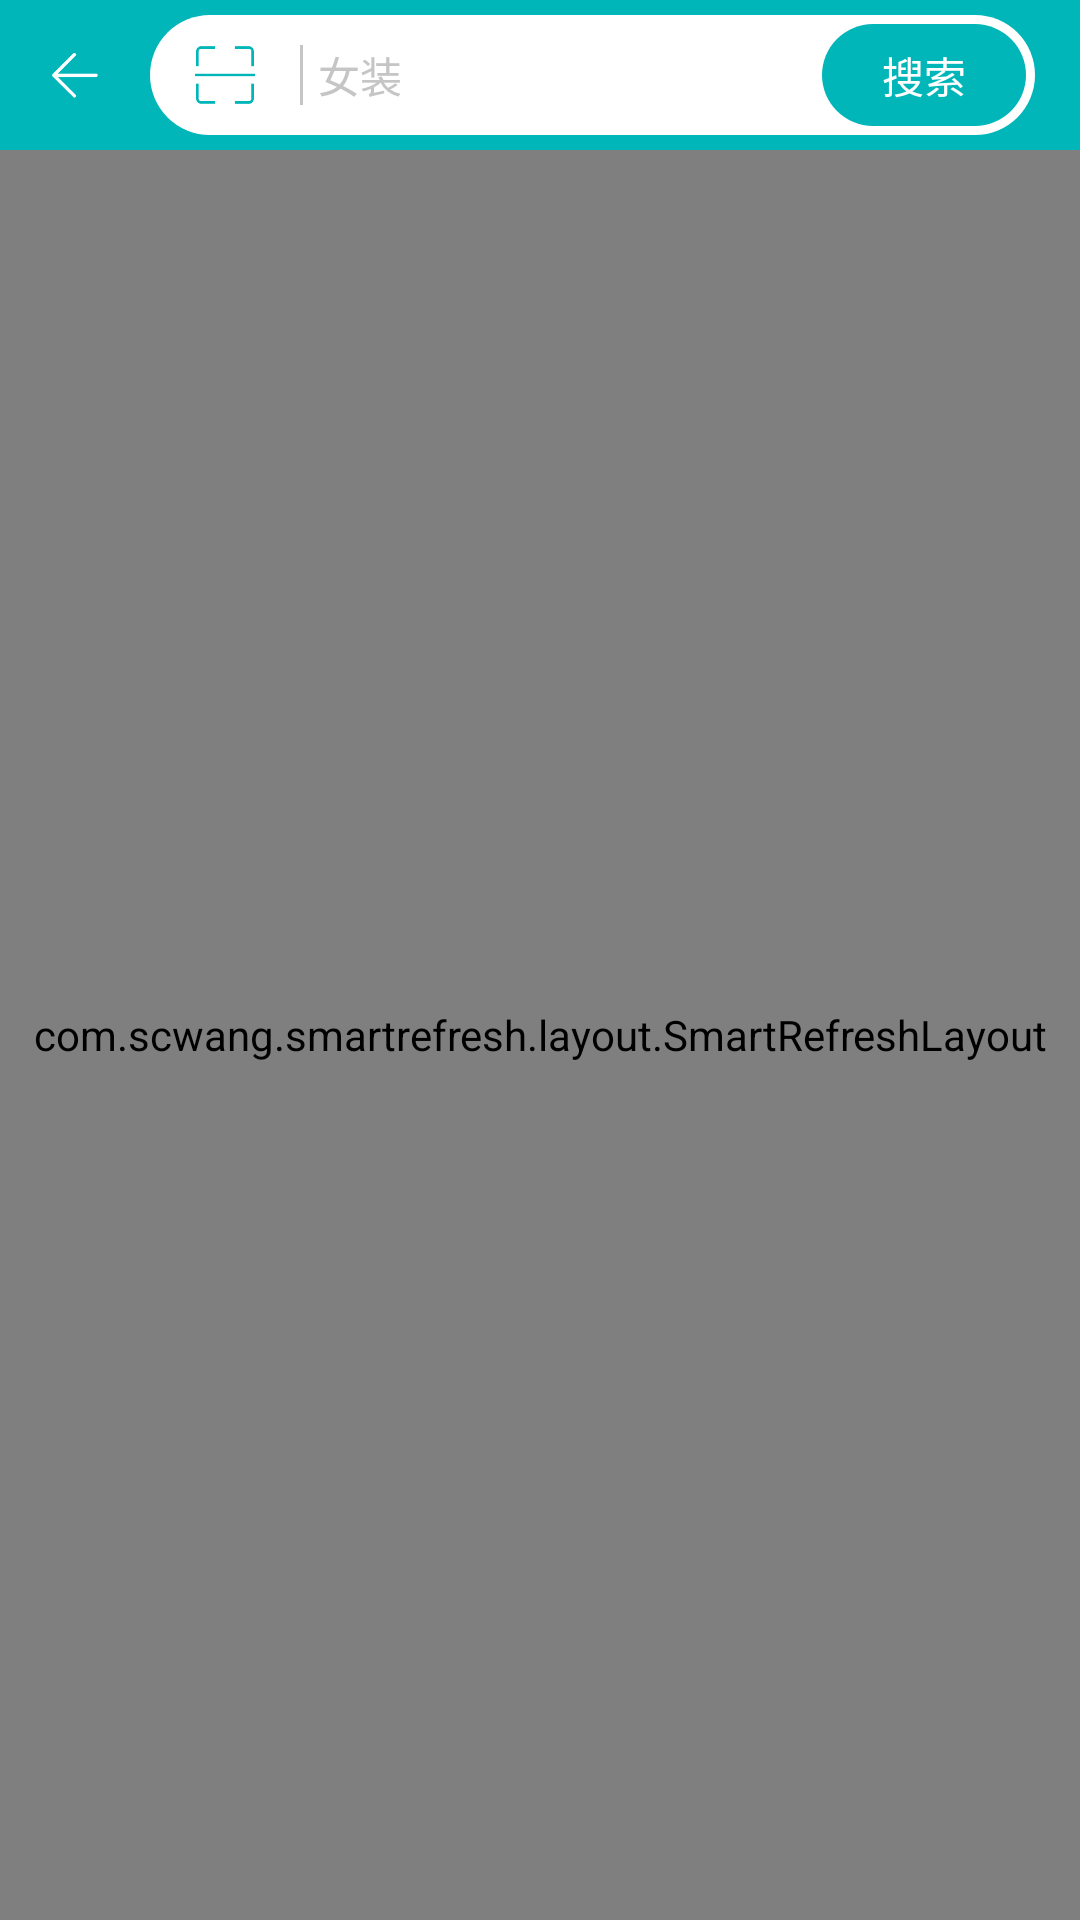

Where to tap for icons on this 1080x1920 app screen, as [x,y]:
back: [75,75]
scan theme: [225,75]
